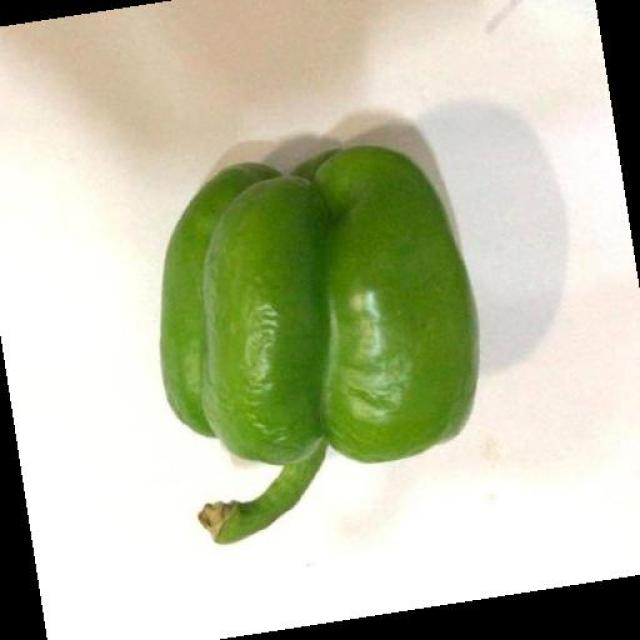Fresh_Capsicum: (161, 135, 473, 522)
